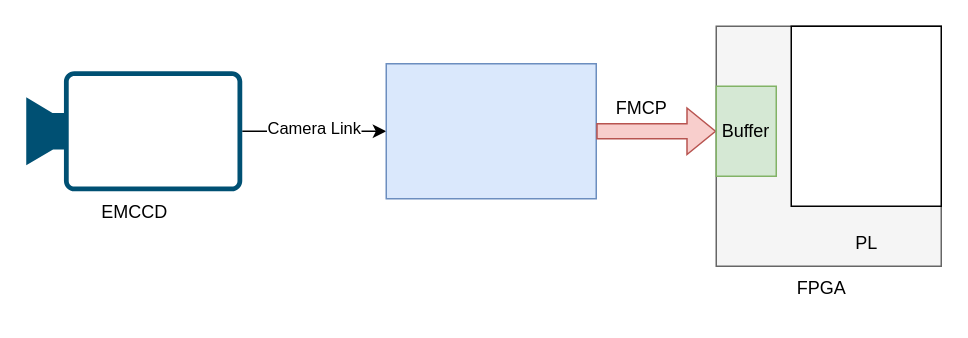
This 968x338 diagram has some shape labels left out. Here are the shapes that lost their labels. From the top down, the box of each, then its label:
(385, 62, 596, 199): Camera Link to FMC adapter card
(790, 25, 941, 206): PS
